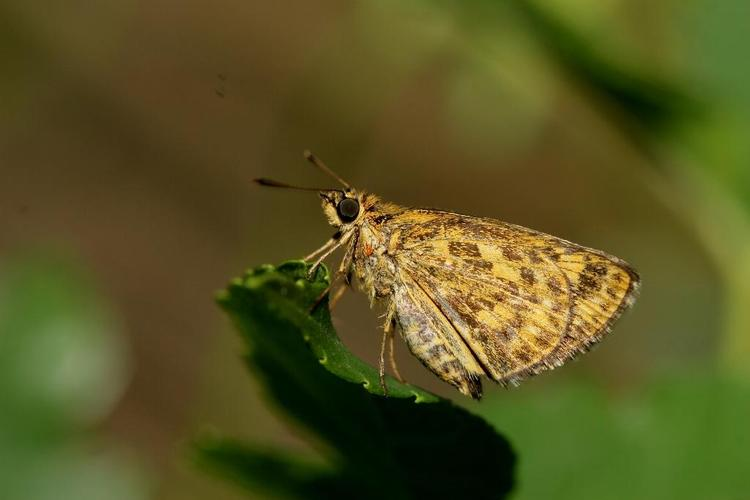Hesperiidae: (250, 149, 648, 399)
